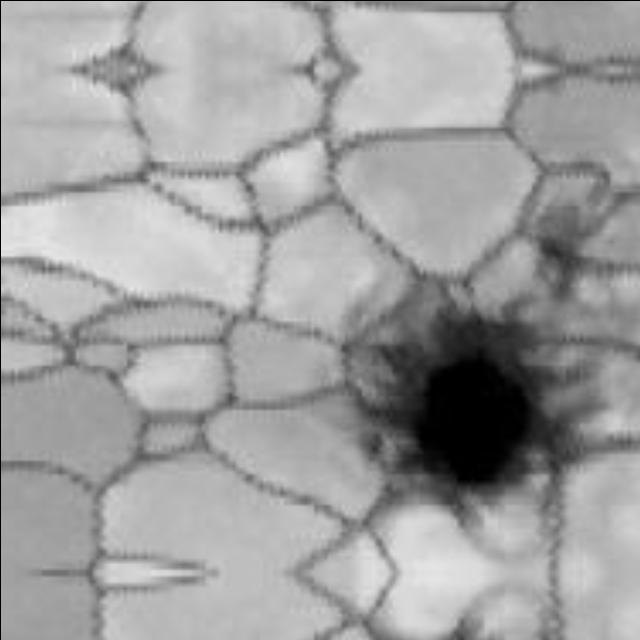good_void: (341, 267, 602, 533), (518, 204, 591, 302)
